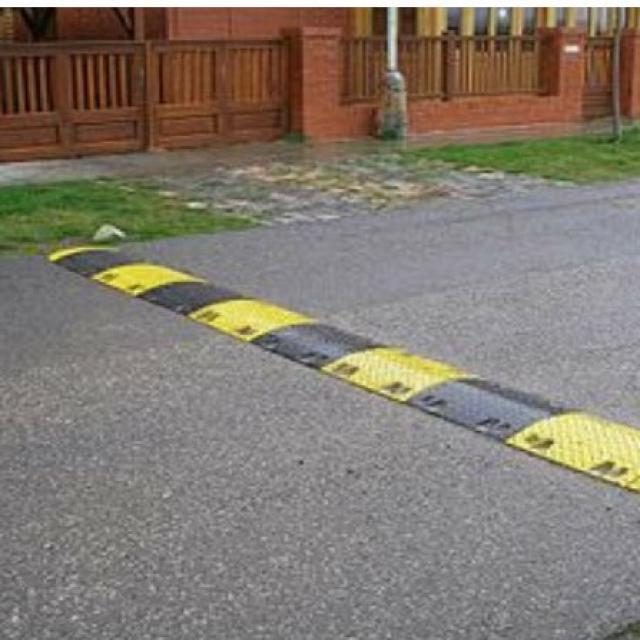speedbreaker: (56, 242, 638, 528)
